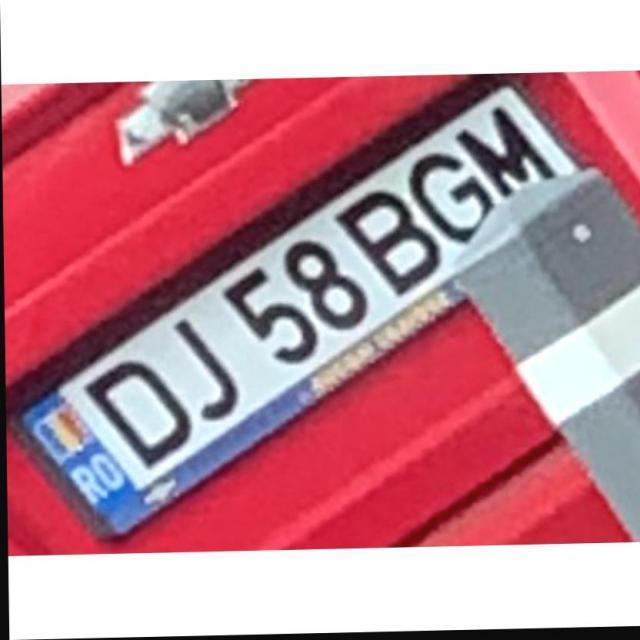license-plates: (24, 87, 577, 535)
